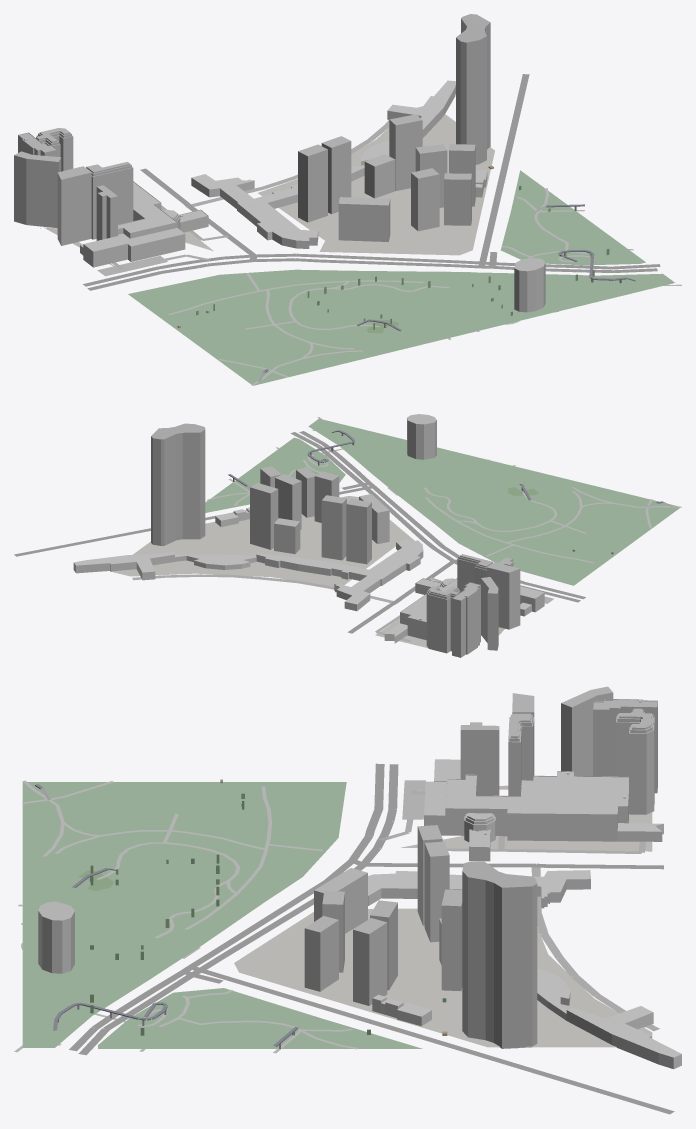
3 views of the same model, one above another, from view 1: azimuth 30°, elevation 25°; view 2: azimuth 150°, elevation 25°; view 3: azimuth 270°, elevation 25° (orthographic). The views are drawn at different scales.
Bounding box in the file's own units: 655 × 143 × 531.
